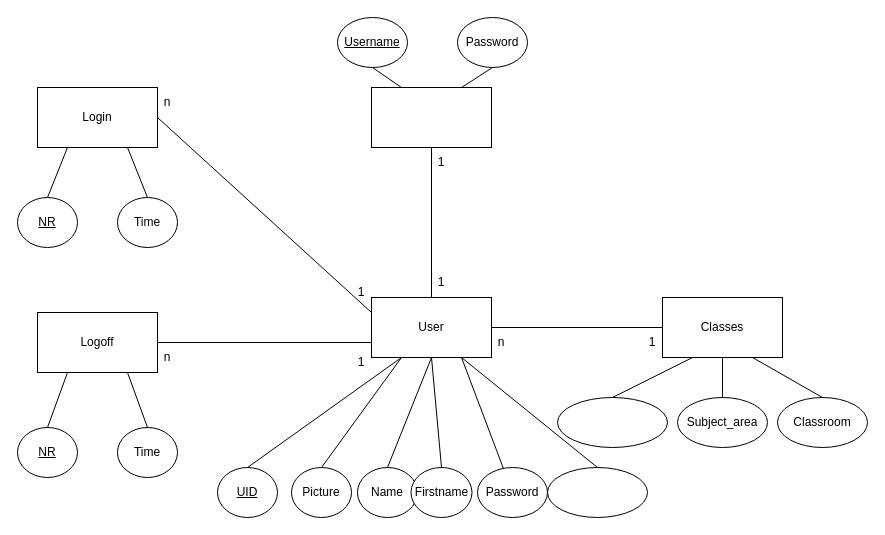
The diagram is 885 pixels wide and 535 high, and some of its shapes have lost their labels. The shapes that lost their labels are listed below. From the top down, each one's centre as x and y in pixels, then its label:
At point (431, 117): "Admins".
At point (612, 422): "CA".
At point (597, 492): "DOB".
